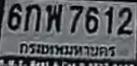1: (104, 6, 112, 32)
2: (117, 6, 131, 34)
6: (7, 2, 21, 29), (84, 6, 98, 32)
7: (69, 4, 83, 32)
A01: (23, 3, 40, 31)
A30: (45, 3, 62, 31)
BKK: (16, 38, 117, 61)
